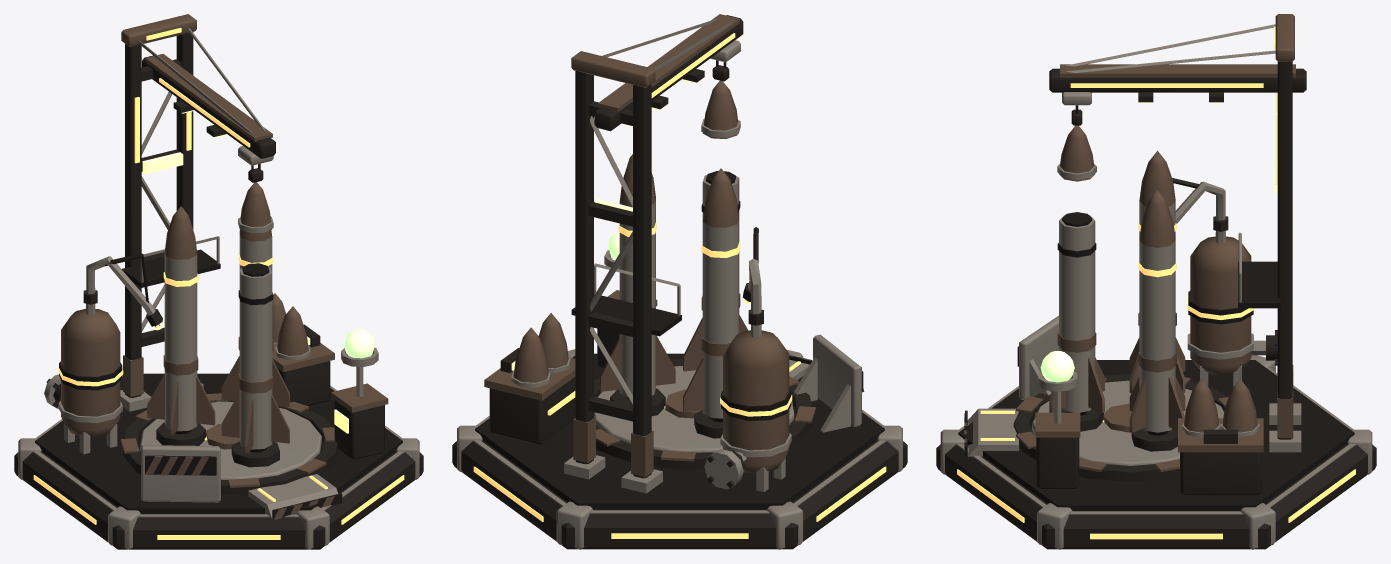
The model's file is fac_missiles.glb.
3 renders of one model, left to right at view 1: azimuth 30°, elevation 25°; view 2: azimuth 150°, elevation 25°; view 3: azimuth 270°, elevation 25°, orthographic. The views are drawn at different scales.
Parts seen in each view (by area): view 1: base, spin, work, lamp; view 2: base, spin, work; view 3: base, spin, work, lamp.
Part boxes in pixels (bbox=[...]): base: bbox=[14, 14, 423, 549]; spin: bbox=[140, 206, 321, 479]; work: bbox=[238, 163, 273, 234]; lamp: bbox=[341, 329, 378, 366]; base: bbox=[452, 14, 907, 549]; spin: bbox=[594, 154, 794, 452]; work: bbox=[701, 60, 740, 138]; base: bbox=[936, 14, 1376, 549]; spin: bbox=[1032, 150, 1223, 465]; work: bbox=[1057, 105, 1096, 181]; lamp: bbox=[1038, 351, 1077, 391].
Size of the model in its own units: 1.8 by 2.26 by 2.05.
